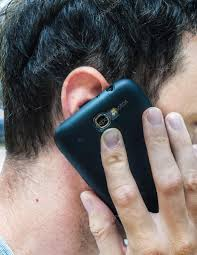phone: (52, 78, 185, 246)
